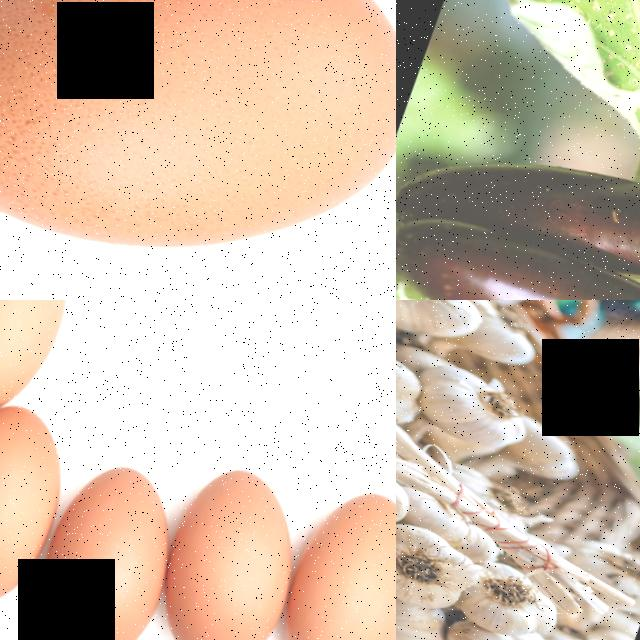egg_: (0, 0, 396, 300), (105, 453, 329, 640), (0, 438, 206, 640), (227, 473, 396, 640), (0, 389, 92, 633), (0, 300, 107, 440)
eggplant: (468, 103, 640, 300), (396, 162, 640, 300)
garlic: (397, 356, 538, 475), (433, 554, 559, 640), (396, 505, 473, 632), (396, 300, 487, 365), (417, 612, 542, 640)
